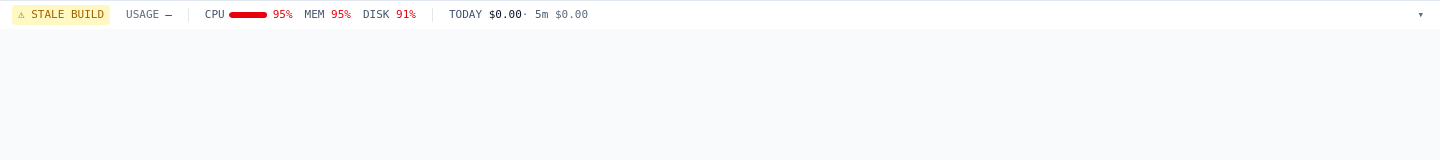
it: appStatusBar › shows the stale banner and detail when the server reports stale
Check: the button with test id "stale-banner" is shown, box top-left (12, 5), bottom-right (110, 25)
Click the button with test id "seg-system": click(310, 15) top-left (201, 7), bottom-right (420, 23)
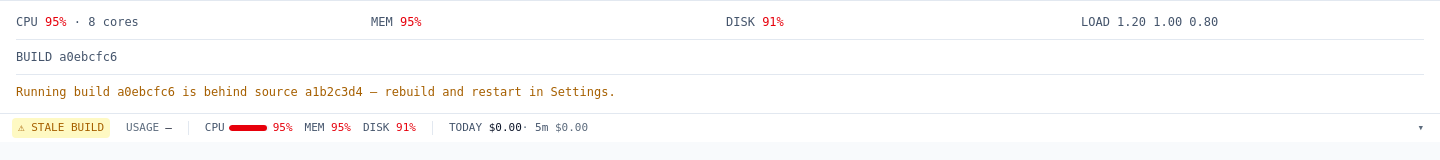
Check: the text with test id "stale-detail" shows "a0ebcfc6", box top-left (16, 85), bottom-right (616, 99)
Check: the text with test id "stale-detail" shows "a1b2c3d4", box top-left (16, 85), bottom-right (616, 99)
